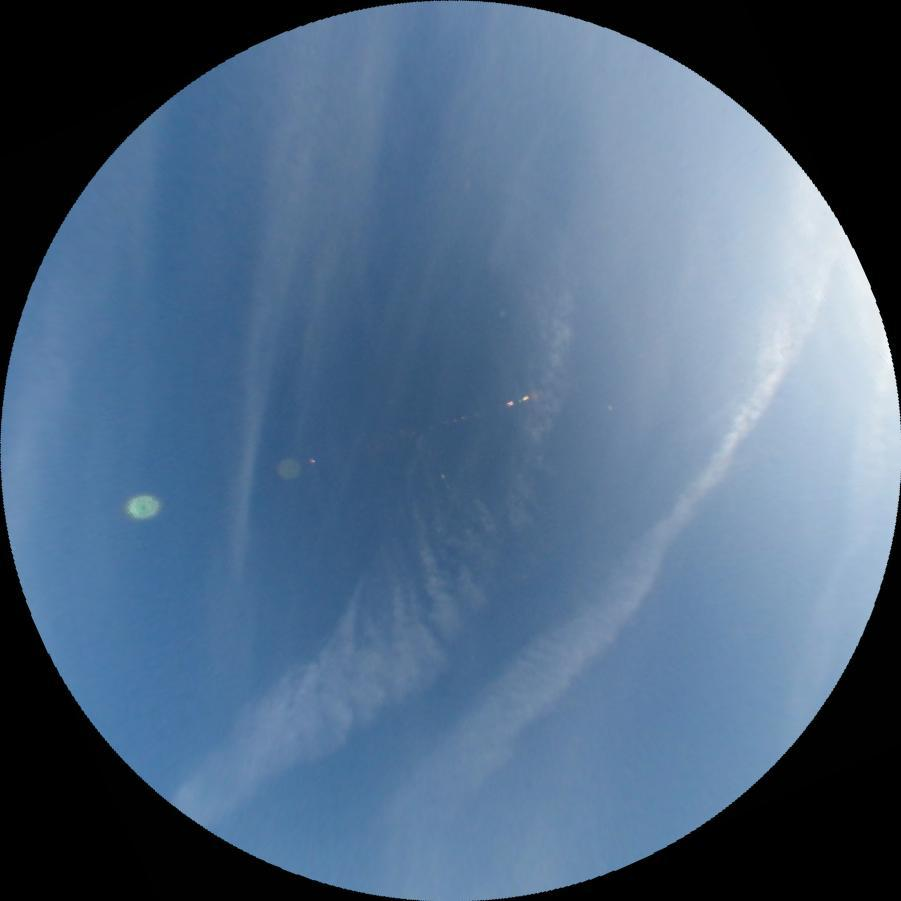contrail veryold: (161, 187, 679, 901), (374, 195, 877, 871)
